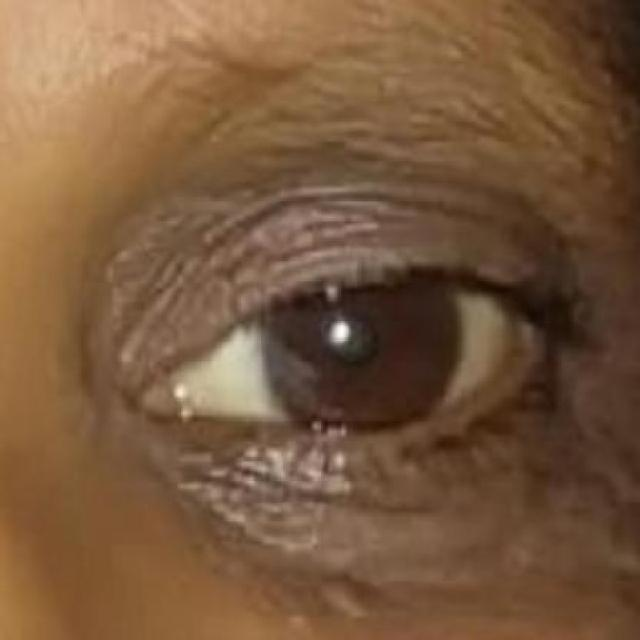awake: (165, 271, 523, 431)
